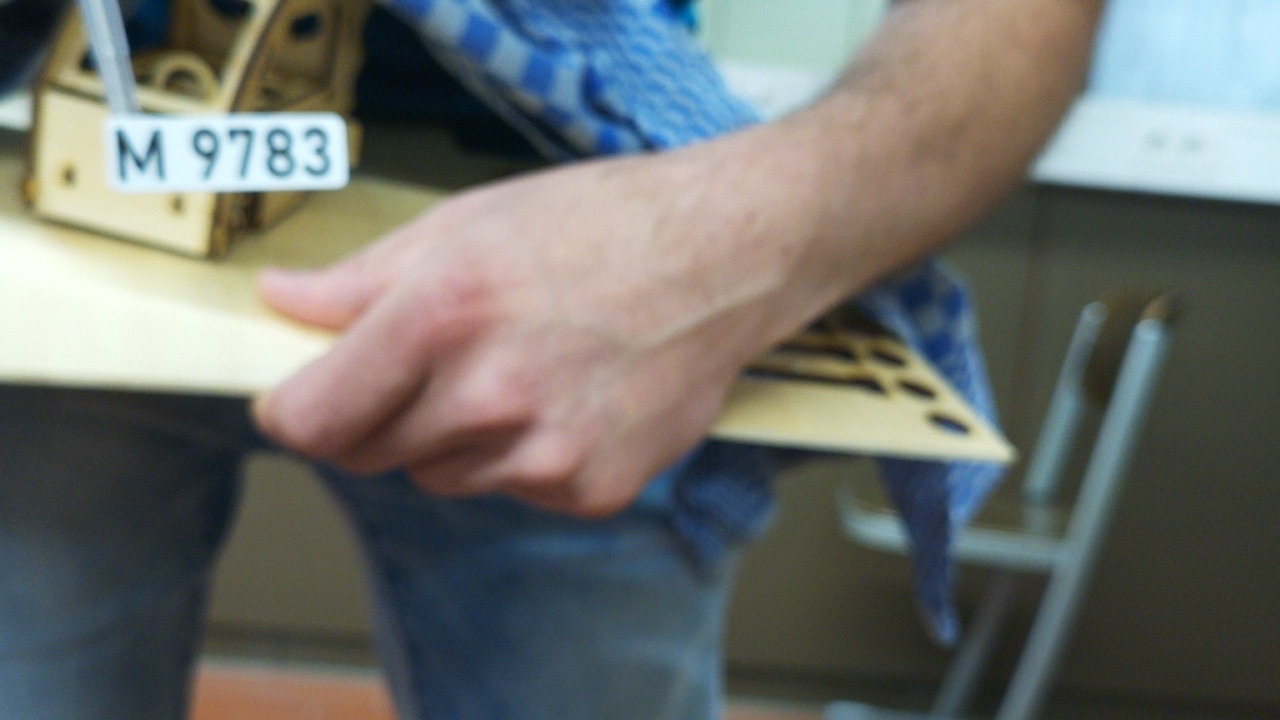license_plate: (107, 110, 352, 200)
